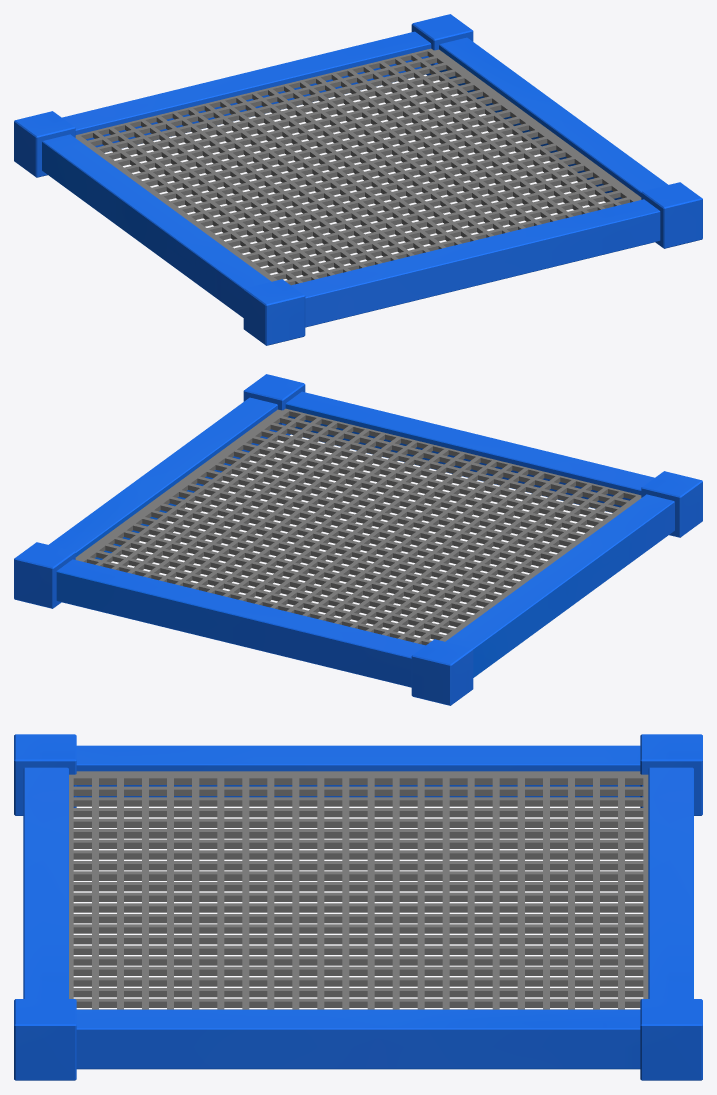
The model's file is SquareBridgeBlue.fbx.
3 views of the same model, one above another, from view 1: azimuth 30°, elevation 25°; view 2: azimuth 150°, elevation 25°; view 3: azimuth 270°, elevation 25° (orthographic). The views are drawn at different scales.
Visible parts, largest first — view 1: Grate.001, Cube.001; view 2: Grate.001, Cube.001; view 3: Grate.001, Cube.001.
Boxes of the visible parts, left/top/right/bottom form: Grate.001: left=75, top=48, right=641, bottom=285; Cube.001: left=14, top=14, right=702, bottom=345; Grate.001: left=75, top=408, right=641, bottom=645; Cube.001: left=14, top=374, right=702, bottom=705; Grate.001: left=69, top=771, right=648, bottom=1009; Cube.001: left=14, top=734, right=702, bottom=1080.
Size of the model in its own units: 11 by 1 by 11.
